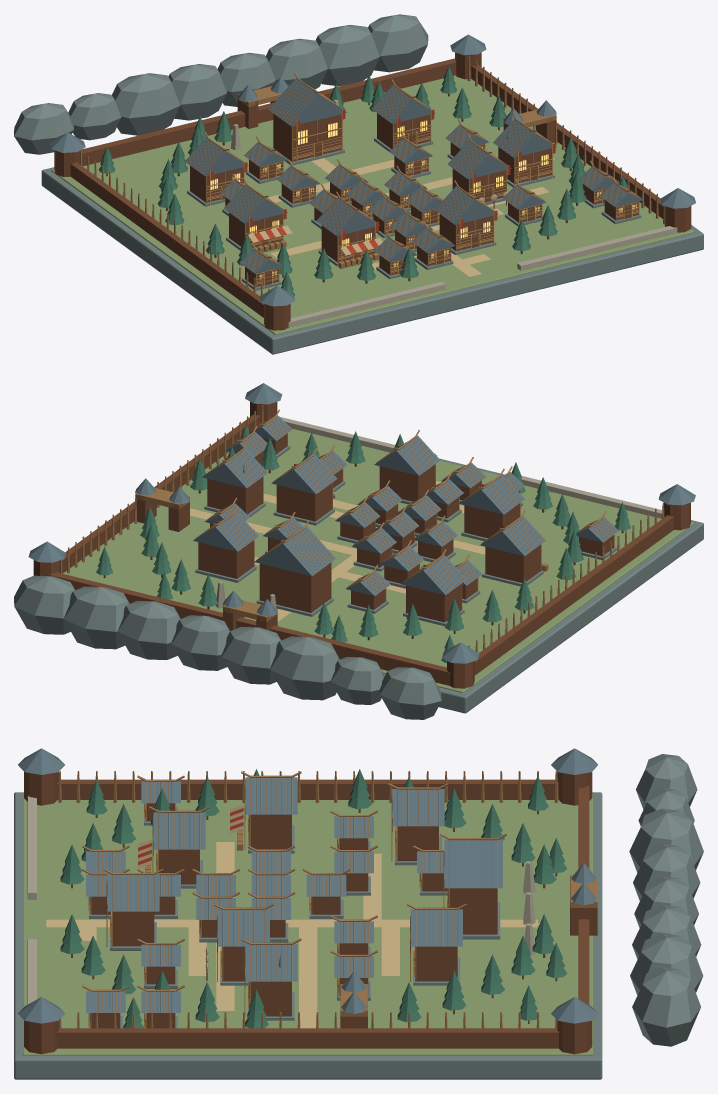
Rendered from cedarkeep.glb.
3 views of the same model, one above another, from view 1: azimuth 30°, elevation 25°; view 2: azimuth 150°, elevation 25°; view 3: azimuth 270°, elevation 25° (orthographic). The views are drawn at different scales.
Visible parts, largest first — view 1: Terrain foundation geometry, Scenic ridges geometry, Defensive perimeter geometry, Town identity landmarks geometry, adventurerGuild geometry, itemShop geometry, tavern geometry, home geometry, equipmentShop geometry, bookstore geometry, inn geometry, trainingGround geometry (+20 smaller); view 2: Terrain foundation geometry, Scenic ridges geometry, Defensive perimeter geometry, Town identity landmarks geometry, adventurerGuild geometry, tavern geometry, bookstore geometry, trainingGround geometry, equipmentShop geometry, inn geometry, home geometry, itemShop geometry (+20 smaller); view 3: Terrain foundation geometry, Defensive perimeter geometry, Scenic ridges geometry, Town identity landmarks geometry, Streets and courtyards geometry, adventurerGuild geometry, tavern geometry, bookstore geometry, itemShop geometry, home geometry, equipmentShop geometry, inn geometry (+22 smaller).
Boxes of the visible parts, left/top/right/bottom form: Terrain foundation geometry: left=41, top=75, right=703, bottom=354; Scenic ridges geometry: left=14, top=14, right=428, bottom=154; Defensive perimeter geometry: left=49, top=34, right=695, bottom=330; Town identity landmarks geometry: left=157, top=81, right=586, bottom=283; adventurerGuild geometry: left=268, top=72, right=346, bottom=165; itemShop geometry: left=316, top=191, right=382, bottom=268; tavern geometry: left=224, top=179, right=292, bottom=252; home geometry: left=434, top=180, right=498, bottom=254; equipmentShop geometry: left=493, top=113, right=556, bottom=187; bookstore geometry: left=371, top=79, right=435, bottom=151; inn geometry: left=185, top=132, right=248, bottom=206; trainingGround geometry: left=447, top=135, right=511, bottom=208; Terrain foundation geometry: left=63, top=428, right=703, bottom=713; Scenic ridges geometry: left=14, top=575, right=441, bottom=719; Defensive perimeter geometry: left=28, top=383, right=695, bottom=688; Town identity landmarks geometry: left=140, top=431, right=583, bottom=640; adventurerGuild geometry: left=254, top=520, right=335, bottom=616; tavern geometry: left=480, top=510, right=548, bottom=586; bookstore geometry: left=193, top=505, right=258, bottom=582; trainingGround geometry: left=271, top=448, right=337, bottom=525; equipmentShop geometry: left=202, top=442, right=267, bottom=516; inn geometry: left=401, top=549, right=466, bottom=626; home geometry: left=374, top=430, right=440, bottom=504; itemShop geometry: left=459, top=468, right=527, bottom=541; Terrain foundation geometry: left=14, top=792, right=602, bottom=1079; Defensive perimeter geometry: left=18, top=748, right=598, bottom=1054; Scenic ridges geometry: left=629, top=754, right=703, bottom=1046; Town identity landmarks geometry: left=60, top=769, right=556, bottom=1028; Streets and courtyards geometry: left=46, top=842, right=539, bottom=1028; adventurerGuild geometry: left=440, top=834, right=506, bottom=939; tavern geometry: left=230, top=771, right=301, bottom=853; bookstore geometry: left=406, top=903, right=466, bottom=985; itemShop geometry: left=138, top=806, right=209, bottom=888; home geometry: left=103, top=868, right=163, bottom=950; equipmentShop geometry: left=241, top=938, right=301, bottom=1020; inn geometry: left=388, top=783, right=448, bottom=865.
Size of the model in its own units: 69.39 by 13.51 by 75.06.
